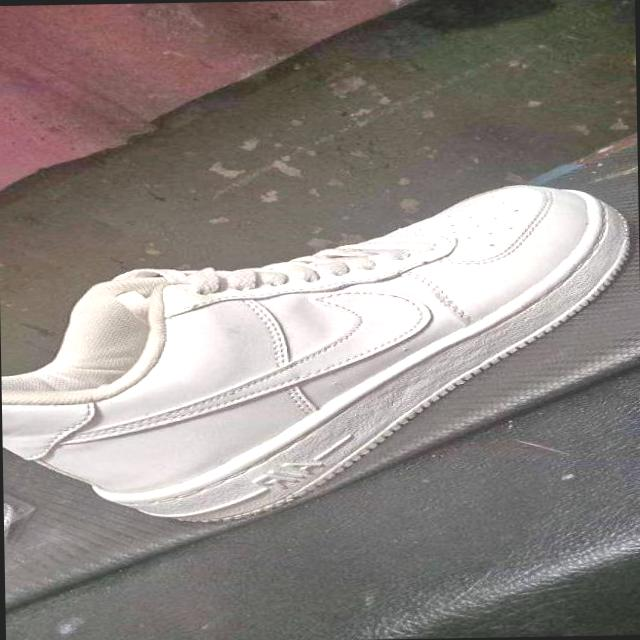nike_fake_airforce: (1, 180, 637, 552)
